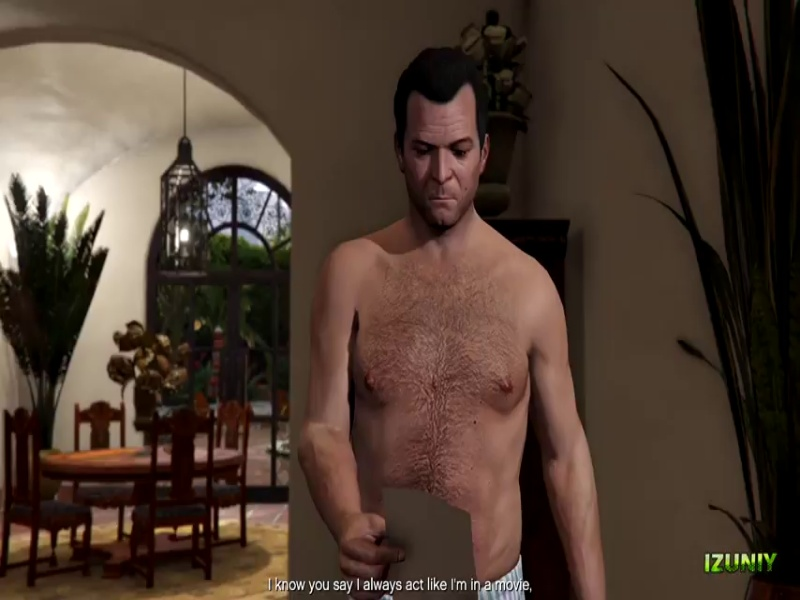human: (298, 50, 613, 592)
